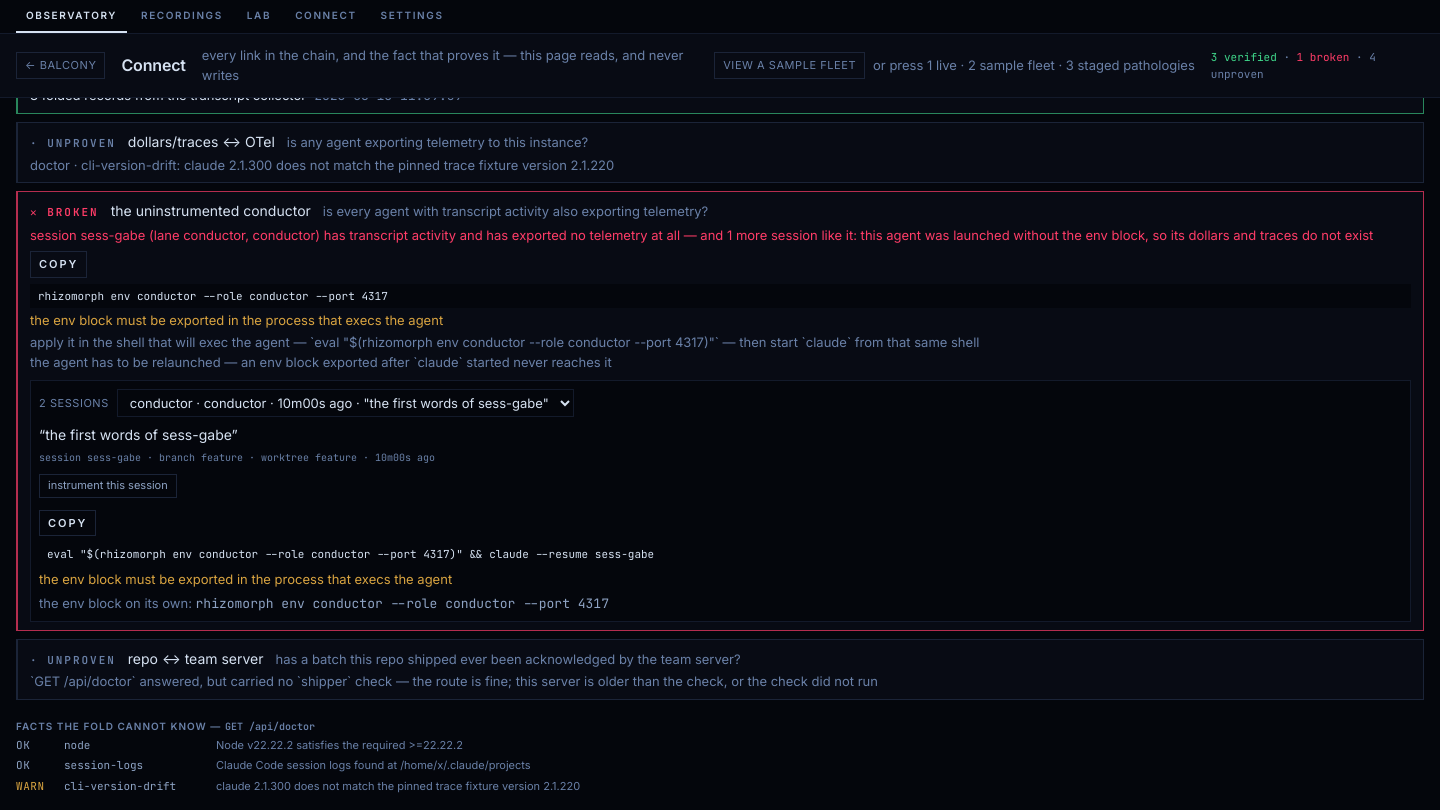
Test: the uninstrumented sessions, enumerated (#520) › says what a successful relaunch actually did — same session, and this row clears itself
(page scrolled)
Click the button with test id "connect-instrument-sess-gabe-start". click: click(108, 486)
box: [39,474,177,498]
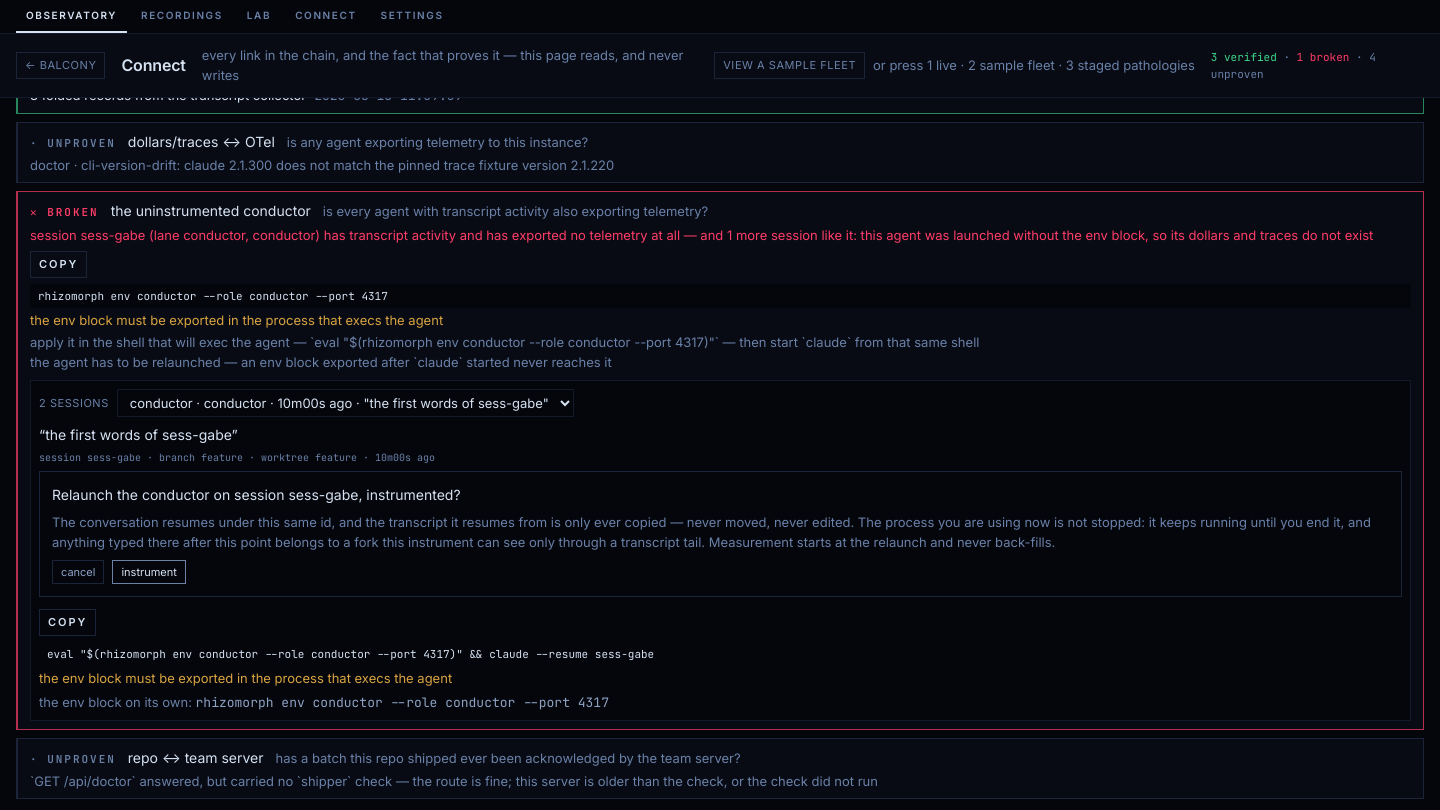
Click the button with test id "connect-instrument-sess-gabe-confirm". click: click(149, 572)
box: [112,560,186,584]
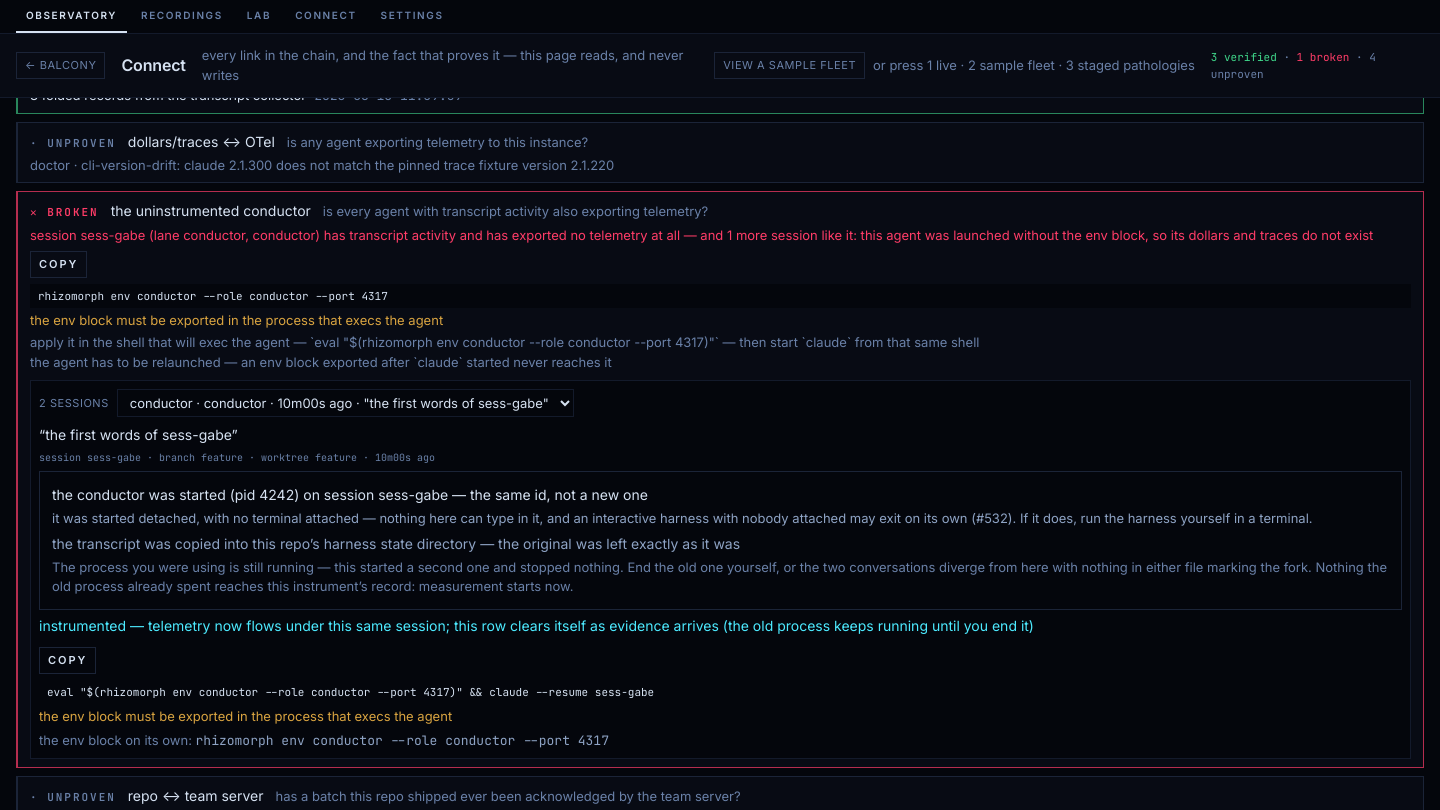
Check: the message with test id "connect-instrument-status-sess-gabe" shows "telemetry now flows under this same session", box [39,617,1034,634]
Check: the message with test id "connect-instrument-status-sess-gabe" shows "clears itself as evidence arrives", box [39,617,1034,634]
Check: the message with test id "connect-instrument-status-sess-gabe" shows "the old process keeps running until you end it", box [39,617,1034,634]
